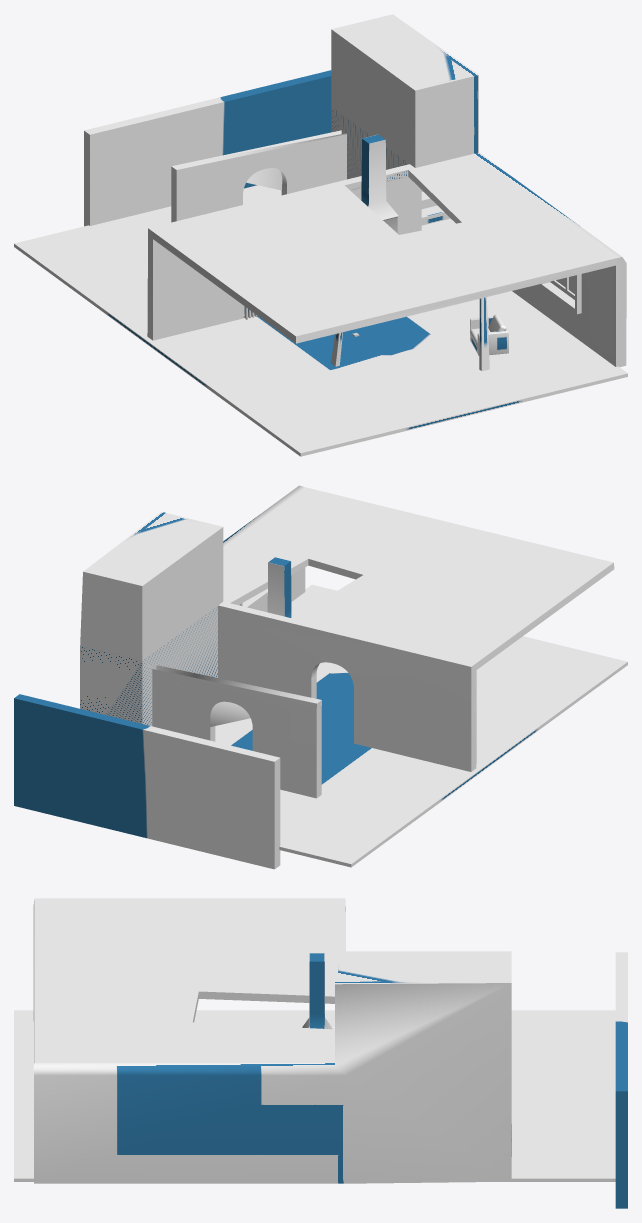
The picture shows the model from 3 angles, top to bottom: view 1: azimuth 30°, elevation 25°; view 2: azimuth 150°, elevation 25°; view 3: azimuth 270°, elevation 25°; orthographic projection. The views are drawn at different scales.
Visible parts, largest first — view 1: Mur, Sol, Cube_1_2, Mur_1, Cube.001, Cube_3_4, Pilier; view 2: Mur, Cube_1_2, Sol, Mur_1, Cube.001; view 3: Mur, Sol, Cube_1_2, Cube.001.
Part boxes in pixels (x1,y1,x2,y2): Mur: [147, 14, 626, 367]; Sol: [14, 185, 627, 456]; Cube_1_2: [84, 70, 331, 226]; Mur_1: [171, 130, 346, 222]; Cube.001: [361, 134, 398, 233]; Cube_3_4: [470, 316, 508, 355]; Pilier: [479, 297, 489, 370]; Mur: [80, 485, 614, 771]; Cube_1_2: [14, 694, 280, 869]; Sol: [215, 584, 627, 867]; Mur_1: [152, 665, 321, 798]; Cube.001: [267, 557, 291, 617]; Mur: [33, 898, 511, 1183]; Sol: [14, 1010, 615, 1181]; Cube_1_2: [615, 952, 627, 1208]; Cube.001: [302, 953, 332, 1029].
Size of the model in its own units: 159 by 90.88 by 233.
Materials: 3 (1 with a texture image).
